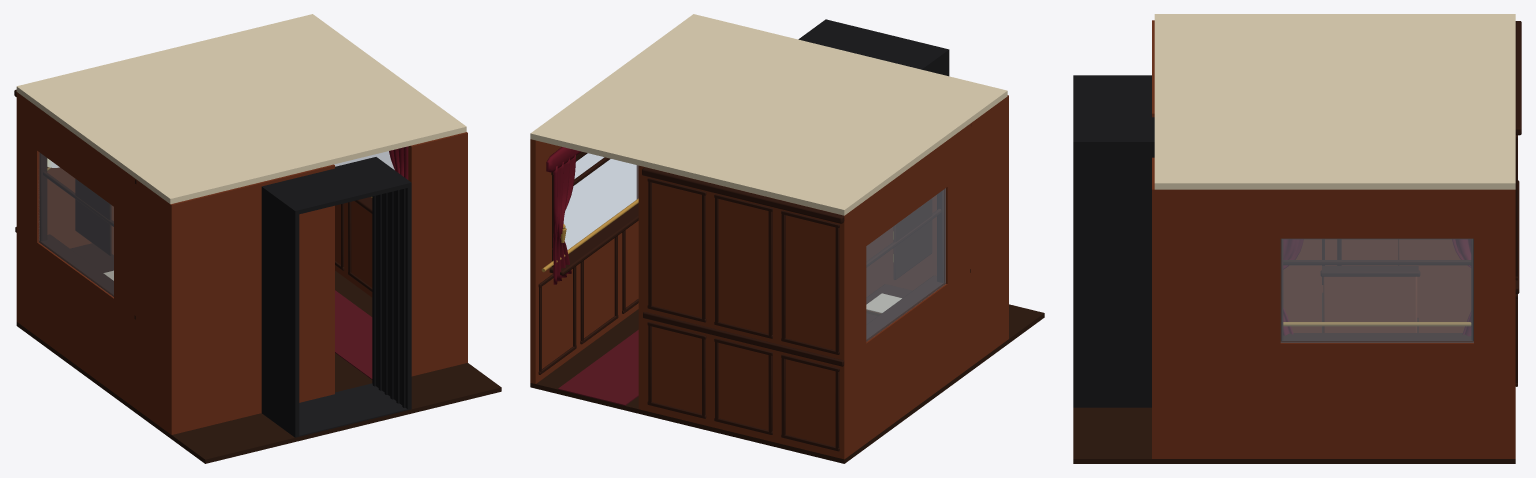
Rendered from sleeper_rear.glb.
The picture shows the model from 3 angles, left to right: view 1: azimuth 30°, elevation 25°; view 2: azimuth 150°, elevation 25°; view 3: azimuth 270°, elevation 25°; orthographic projection. The views are drawn at different scales.
Parts seen in each view (by area): view 1: sleeper_rear, sleeper_rear_glass; view 2: sleeper_rear, sleeper_rear_glass; view 3: sleeper_rear, sleeper_rear_glass.
Boxes of the visible parts, left/top/right/bottom form: sleeper_rear: left=14, top=14, right=501, bottom=463; sleeper_rear_glass: left=39, top=151, right=394, bottom=296; sleeper_rear: left=530, top=14, right=1044, bottom=463; sleeper_rear_glass: left=564, top=153, right=945, bottom=341; sleeper_rear: left=1073, top=14, right=1521, bottom=463; sleeper_rear_glass: left=1281, top=239, right=1473, bottom=342.
Size of the model in its own units: 2.9 by 2.24 by 3.24.
